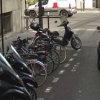Motorcycle: (29, 19, 84, 55)
